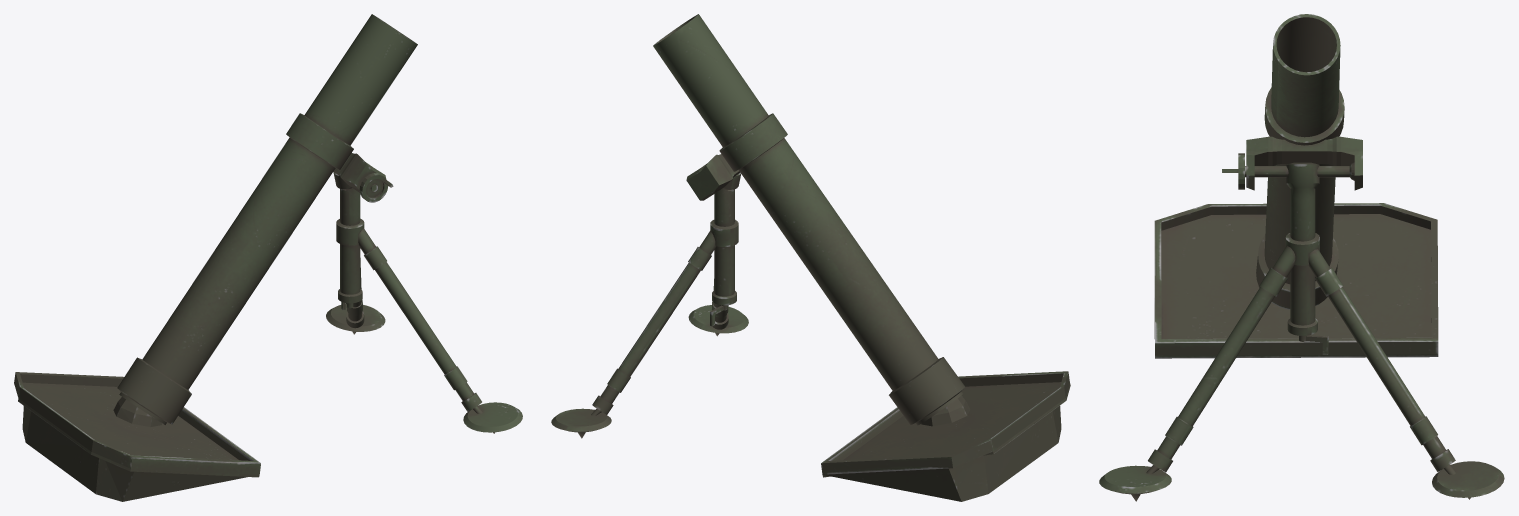
The model's file is ww2-mortar.glb.
The picture shows the model from 3 angles, left to right: view 1: azimuth 30°, elevation 25°; view 2: azimuth 150°, elevation 25°; view 3: azimuth 270°, elevation 25°; orthographic projection. The views are drawn at different scales.
Parts seen in each view (by area): view 1: Cylinder, base, legs; view 2: Cylinder, base, legs; view 3: base, legs, Cylinder.
Boxes of the visible parts, left/top/right/bottom form: Cylinder: left=117, top=14, right=417, bottom=424; base: left=14, top=372, right=260, bottom=501; legs: left=326, top=153, right=522, bottom=433; Cylinder: left=653, top=14, right=964, bottom=425; base: left=821, top=371, right=1070, bottom=501; legs: left=551, top=154, right=748, bottom=438; base: left=1154, top=203, right=1438, bottom=358; legs: left=1099, top=136, right=1504, bottom=501; Cylinder: left=1256, top=14, right=1344, bottom=309.
Size of the model in its own units: 1.01 by 0.9133 by 0.7295.
1 material, 1 textured.
